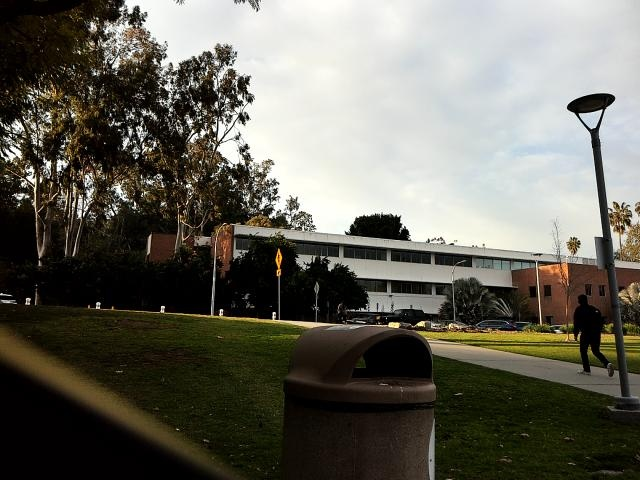trashcan: (271, 315, 439, 480)
